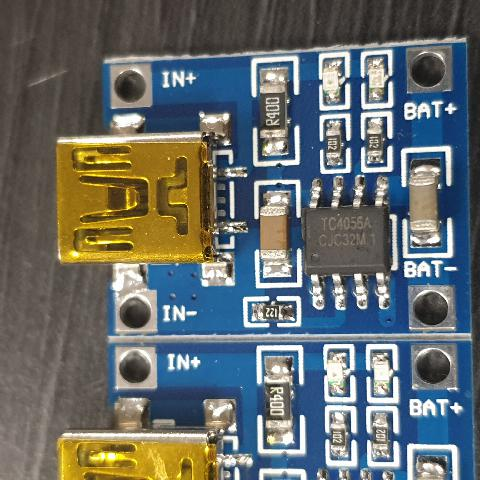batt+: (413, 342, 460, 387), (408, 43, 448, 90)
batt-: (412, 290, 452, 327)
charge: (324, 346, 360, 398), (316, 58, 352, 106)
done: (358, 342, 392, 398), (360, 51, 390, 104)
rprog: (244, 298, 304, 324)
usb: (53, 136, 205, 255)
